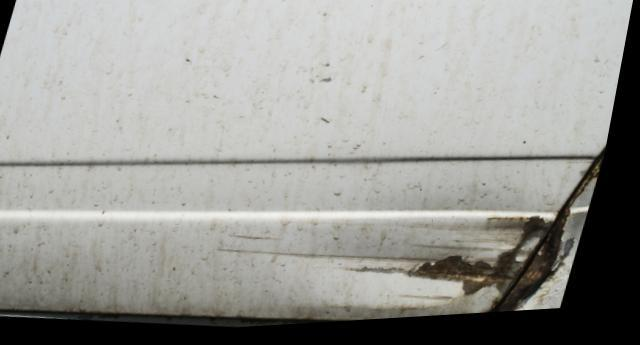dent: (517, 161, 612, 319)
scratch: (216, 215, 568, 303)
